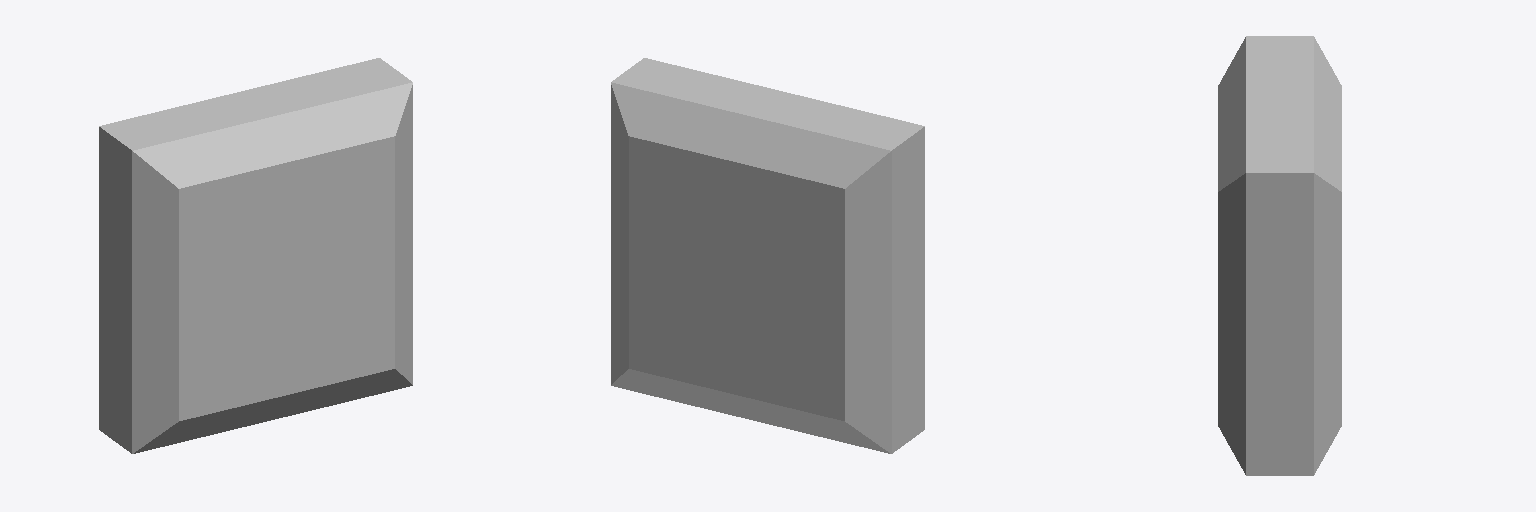
Rendered from GrillCheese.obj.
3 renders of one model, left to right at view 1: azimuth 30°, elevation 25°; view 2: azimuth 150°, elevation 25°; view 3: azimuth 270°, elevation 25°, orthographic.
Parts seen in each view (by area): view 1: BurgerPrism; view 2: BurgerPrism; view 3: BurgerPrism.
Boxes of the visible parts, <box> form: BurgerPrism: <box>99,58,412,453</box>; BurgerPrism: <box>611,58,924,453</box>; BurgerPrism: <box>1218,36,1341,475</box>.
Bounding box in the file's own units: 0.137 × 0.1415 × 0.0527.